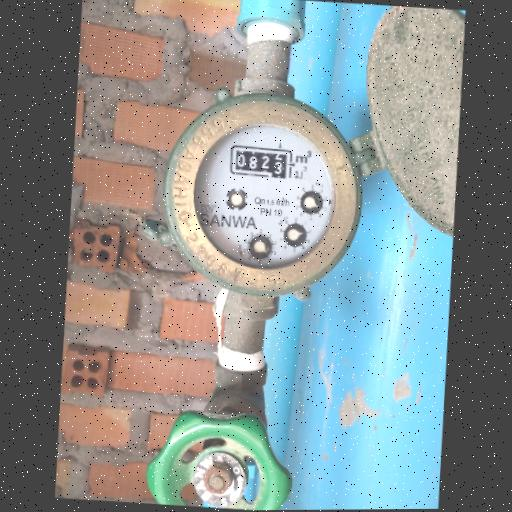0: (235, 150, 247, 171)
2: (257, 152, 273, 173)
3: (270, 153, 287, 179)
8: (245, 151, 259, 172)
border_water_meter_number: (228, 144, 292, 180)
